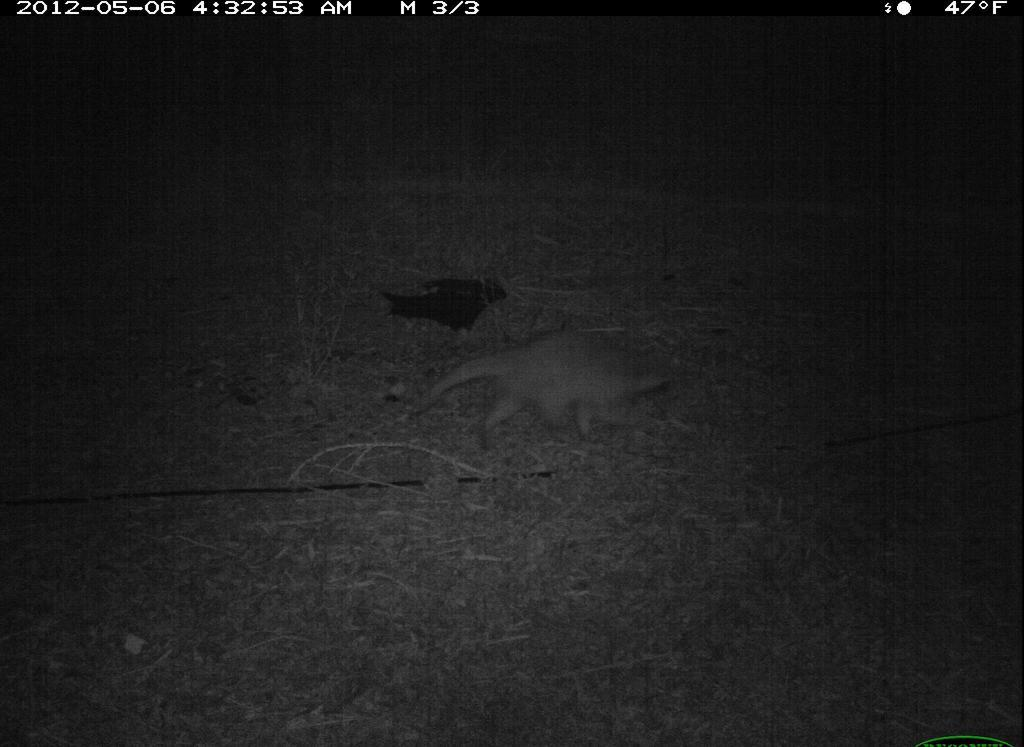raccoon: (405, 332, 706, 449)
